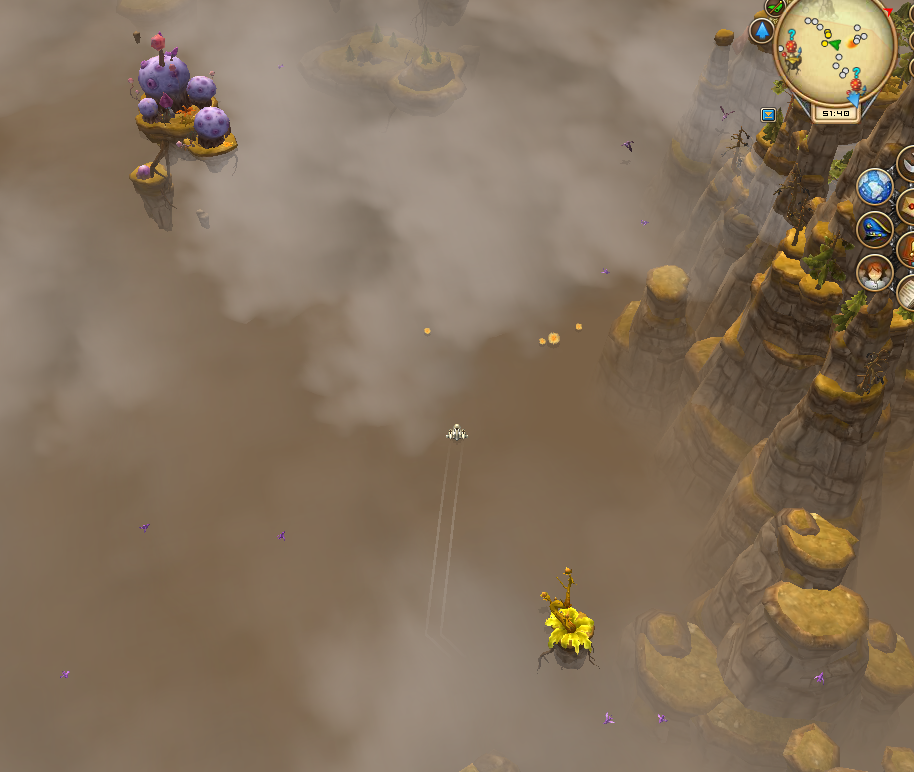dandelion-empty: (537, 553, 600, 673)
fluff: (419, 322, 435, 341), (548, 331, 561, 348), (535, 335, 547, 349), (572, 318, 581, 332)
